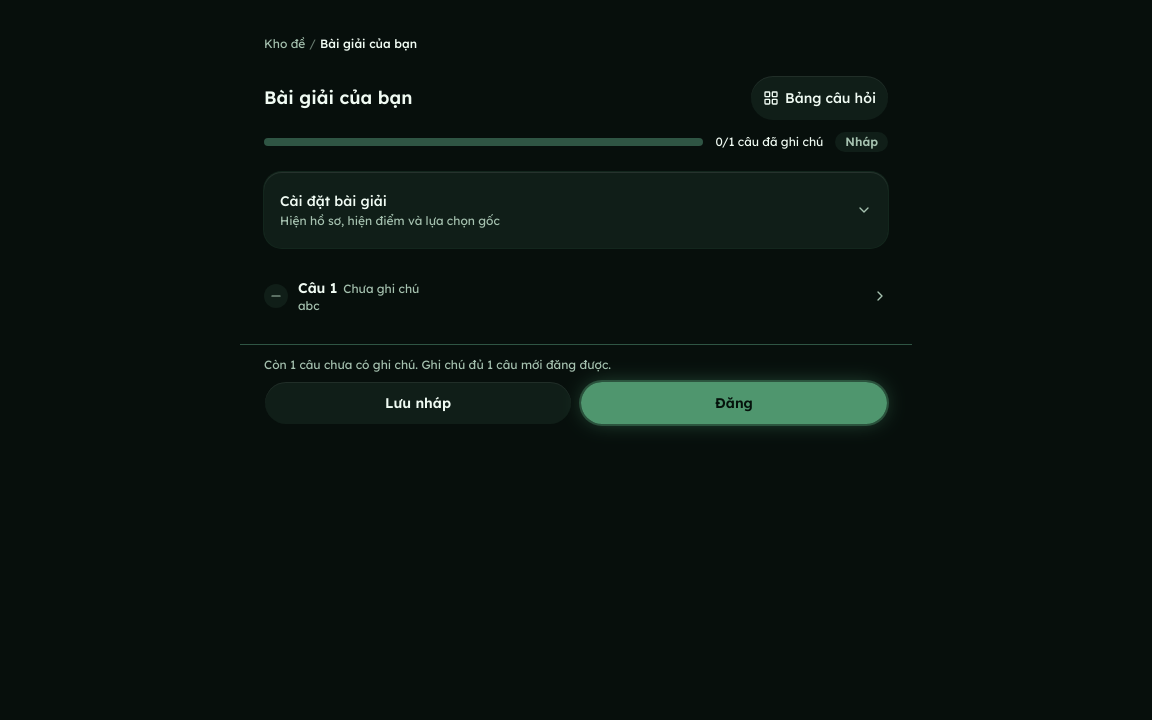
Test: SolutionEditorScreen — NoteSheet, lỗi generic (Required Test #2) › role=alert 'Chưa lưu được...', textarea và tấm trượt không đổi
Click the button with aria-label "Câu 1,": [318, 288] box [264,268,888,324]
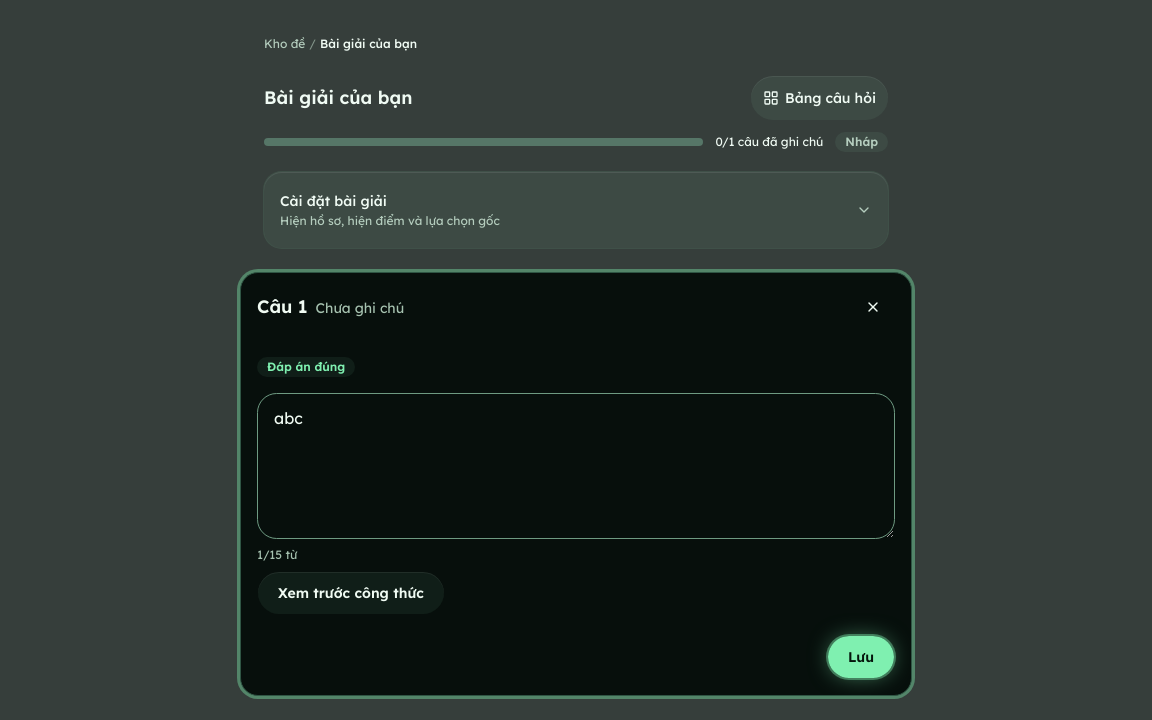
Click the button "Lưu": [861, 657] box [827,635,895,679]
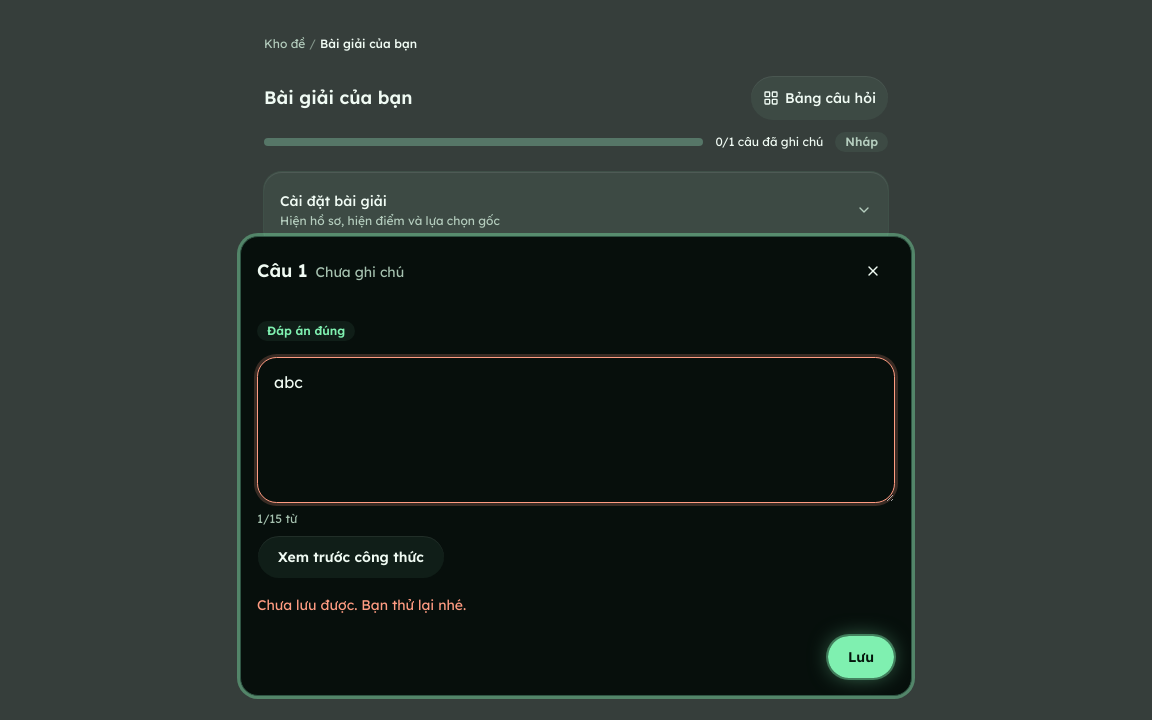
Expected: the text box holds "abc", [257,357,895,503]
Expected: the message reads "Chưa lưu được. Bạn thử lại nhé.", [257,596,466,614]
